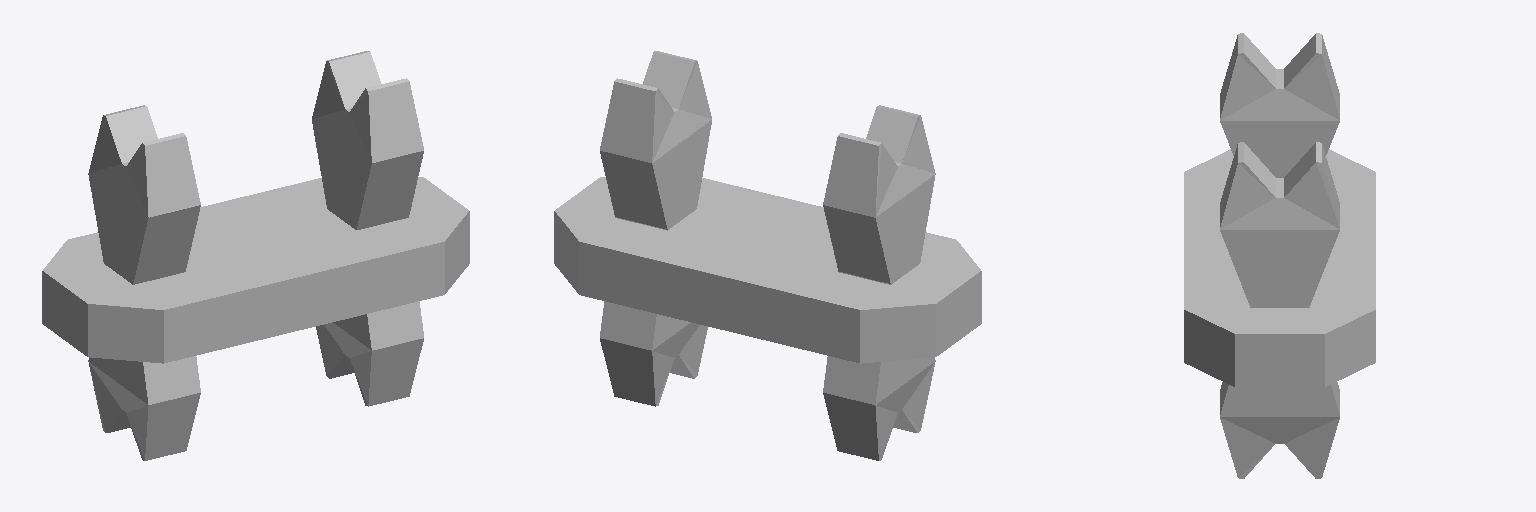
File: stand_s.obj
The picture shows the model from 3 angles: view 1: azimuth 30°, elevation 25°; view 2: azimuth 150°, elevation 25°; view 3: azimuth 270°, elevation 25°; orthographic projection.
Parts seen in each view (by area): view 1: q_S; view 2: q_S; view 3: q_S.
Part boxes in pixels (bbox=[...]): q_S: bbox=[42, 51, 469, 460]; q_S: bbox=[554, 51, 981, 460]; q_S: bbox=[1184, 33, 1375, 478].
Size of the model in its own units: 0.4543 by 0.3609 by 0.1984.